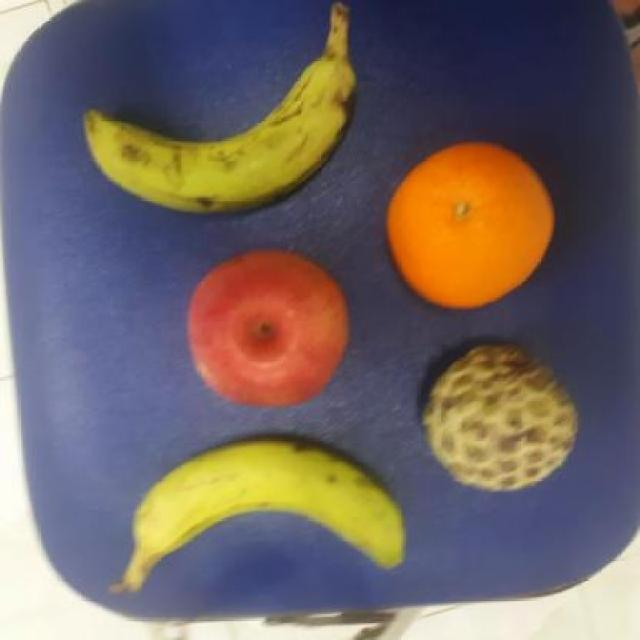apple: (180, 249, 348, 411)
banana: (88, 58, 360, 220), (125, 432, 404, 563)
oren: (386, 135, 560, 314)
sugar apple: (413, 338, 581, 494)
